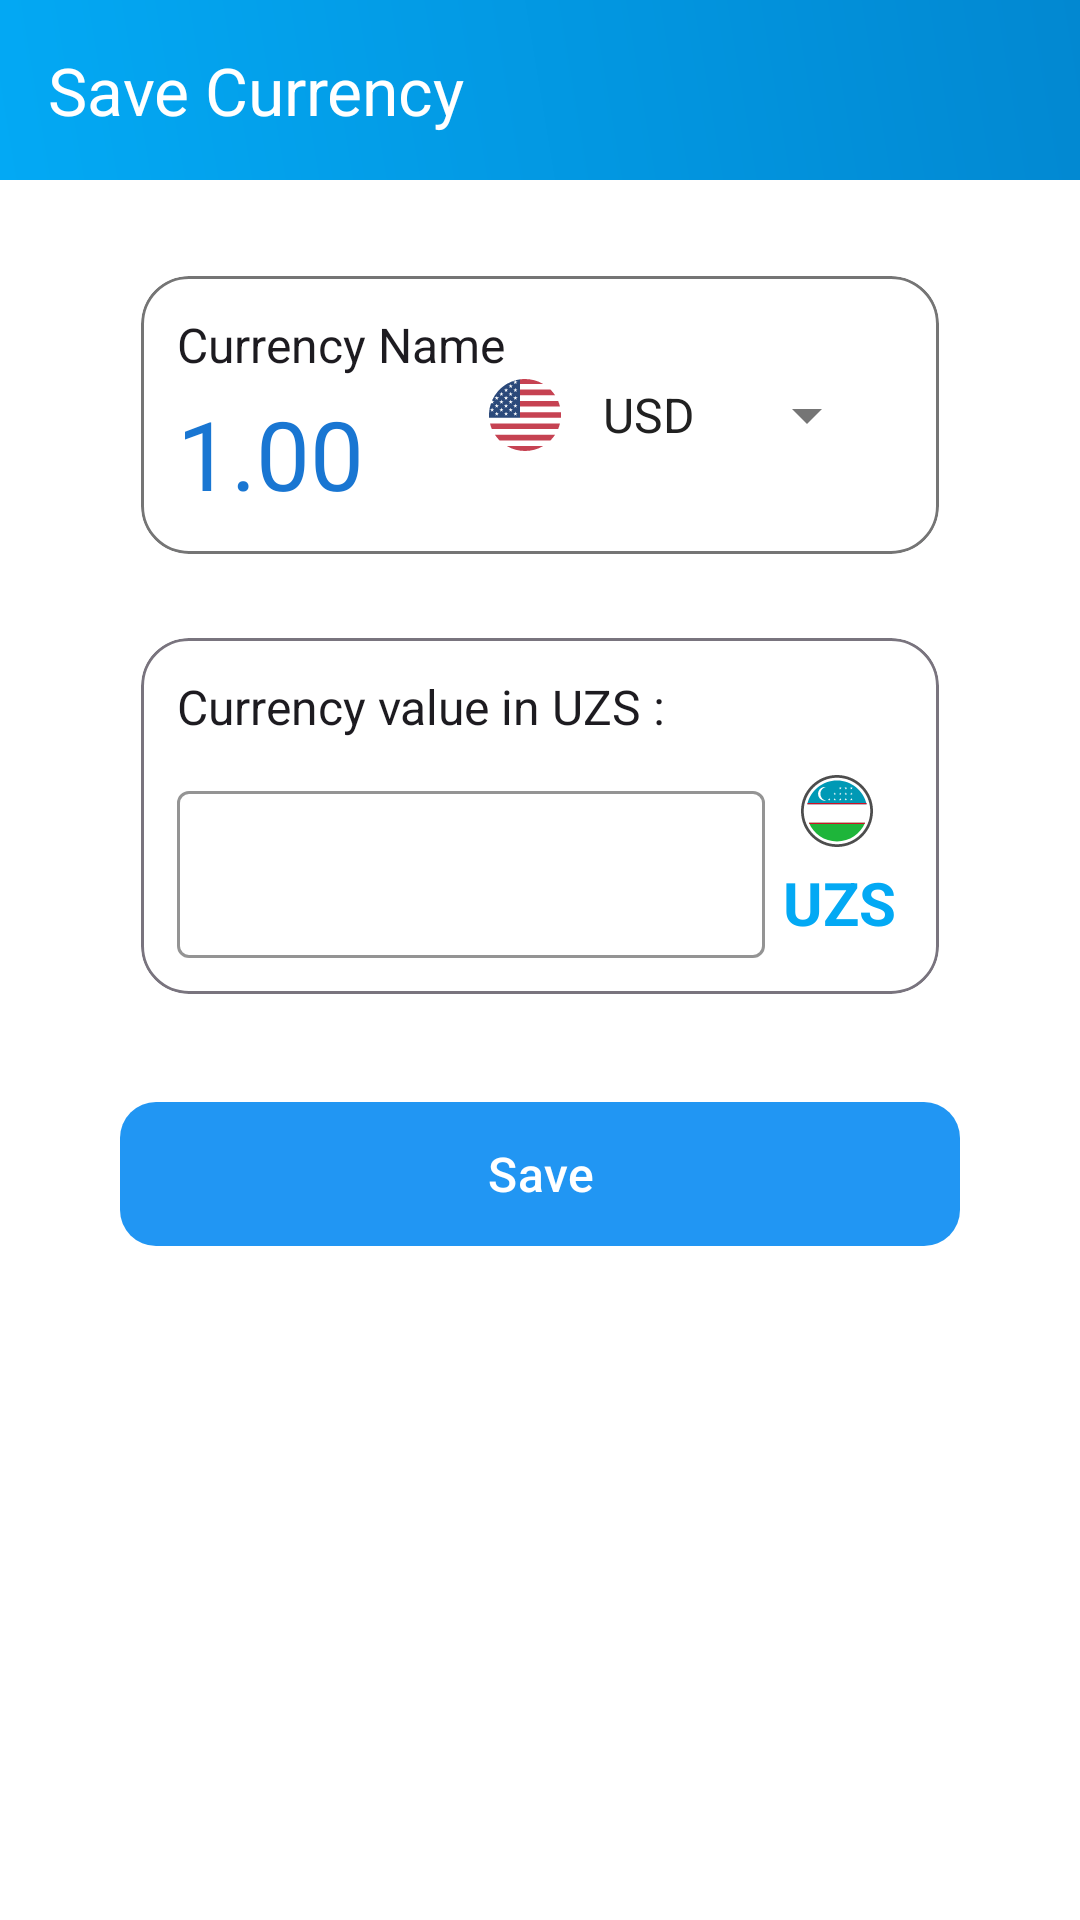

Where to tap for icons on this 1080px×1920px app screen, as point (x, y):
usa flag: point (525, 415)
